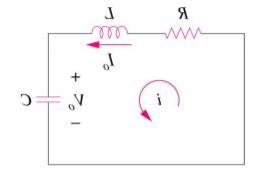inductor: (79, 21, 136, 41)
